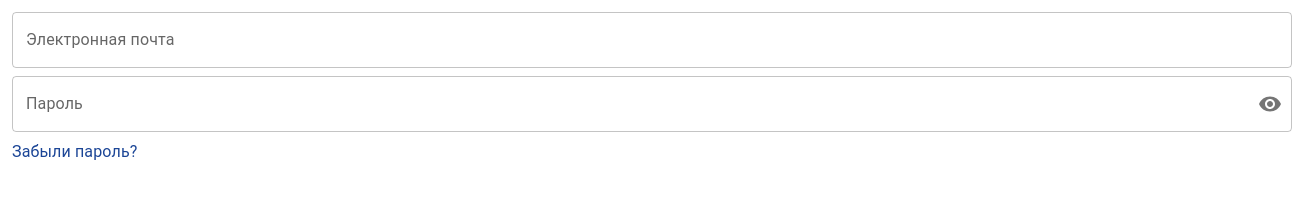
Test: AuthorizationComponent › должен показывать ошибку при неверных учетных данных
Type "wrong@email.com" into the field labelled "Электронная почта" at (652, 40), box top-left (12, 12), bottom-right (1292, 68)
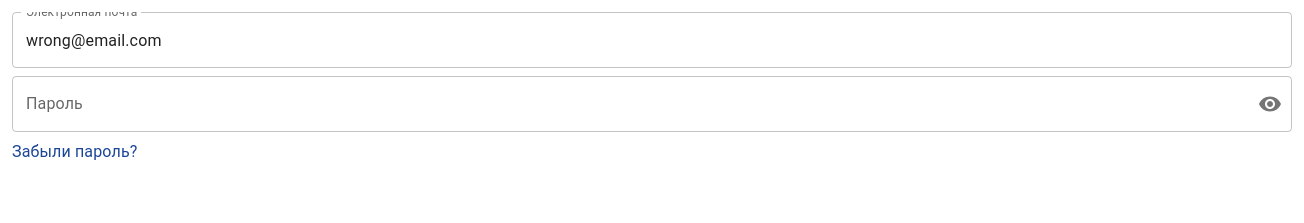
Type "wrongpass" into the password field labelled "Пароль" at (627, 104), box top-left (12, 76), bottom-right (1242, 132)
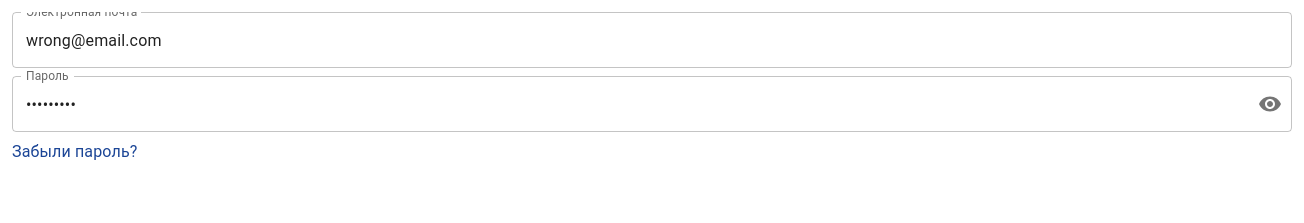
Press Enter in the password field labelled "Пароль", box top-left (12, 76), bottom-right (1242, 132)
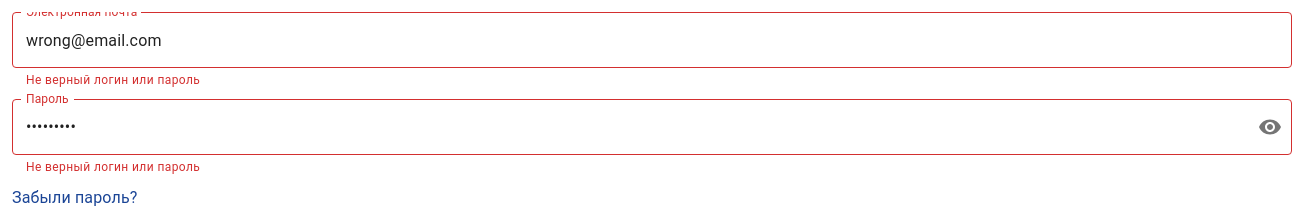
Now the text "Не верный логин или пароль" is shown 2 times, box top-left (26, 73), bottom-right (200, 87); top-left (26, 160), bottom-right (200, 174)
